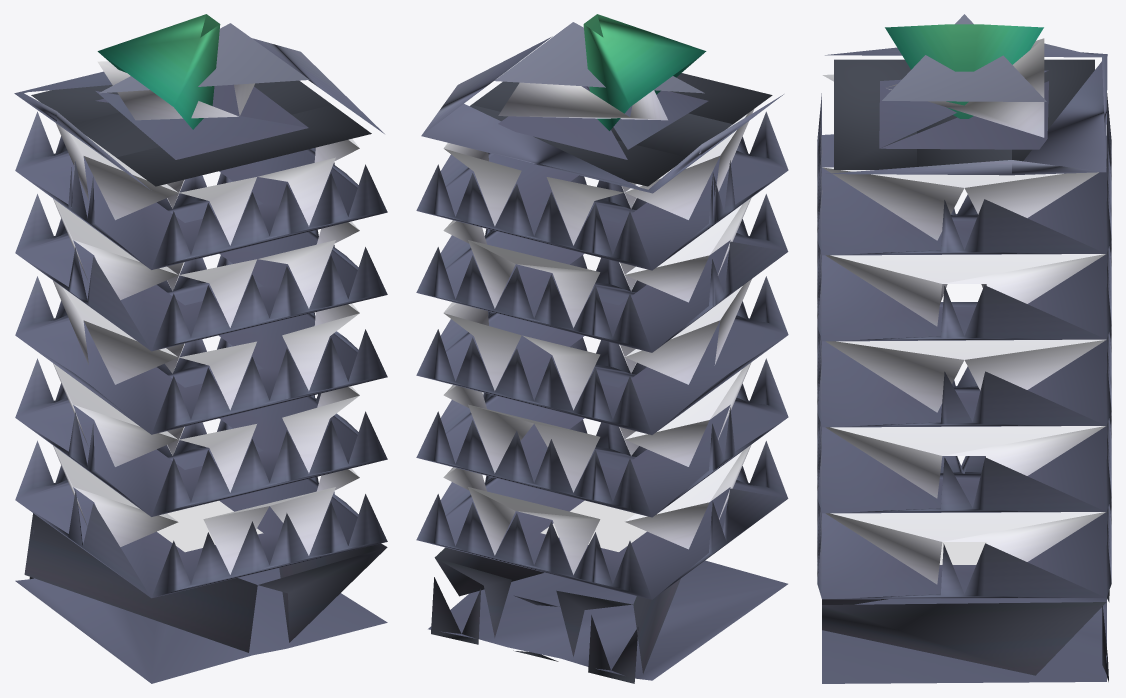
The model's file is tower-m-low.glb.
The picture shows the model from 3 angles, left to right: view 1: azimuth 30°, elevation 25°; view 2: azimuth 150°, elevation 25°; view 3: azimuth 270°, elevation 25°; orthographic projection. The views are drawn at different scales.
Visible parts, largest first — view 1: building-m baked; view 2: building-m baked; view 3: building-m baked.
Boxes of the visible parts, x1=… form: building-m baked: x1=14, y1=14, x2=387, y2=683; building-m baked: x1=416, y1=14, x2=788, y2=683; building-m baked: x1=817, y1=14, x2=1111, y2=683.
Bounding box in the file's own units: 12.18 × 28 × 12.18.
Materials: 1 (1 with a texture image).
